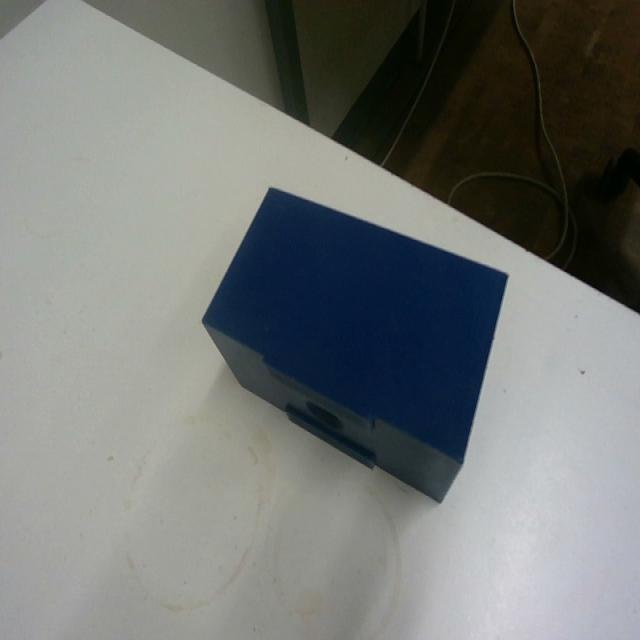Blue Cuboid: (199, 182, 510, 506)
